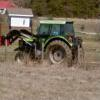Tractor: (15, 13, 83, 65)
